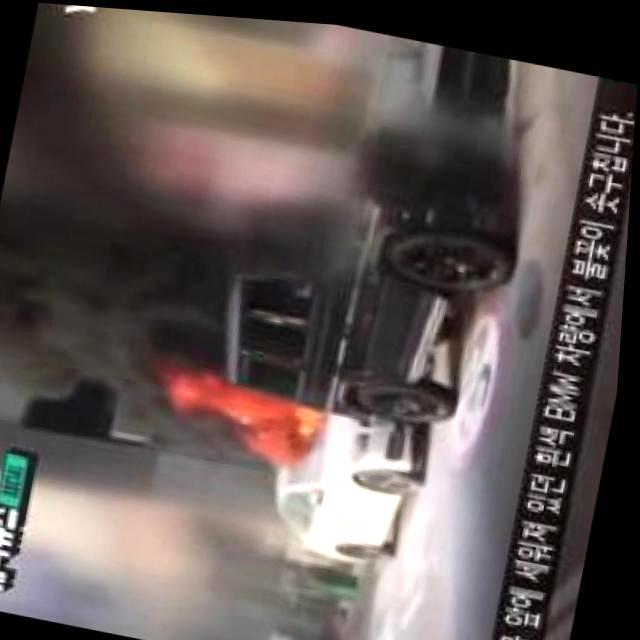fire: (259, 391, 339, 454)
